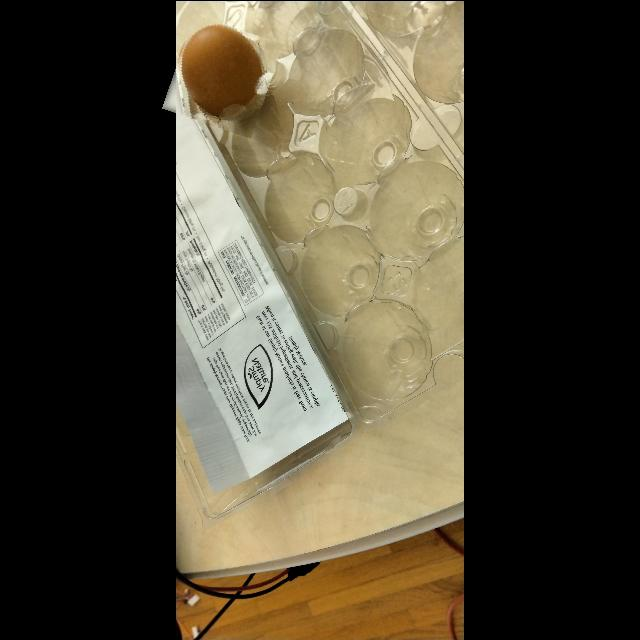Egg: (169, 19, 277, 132)
